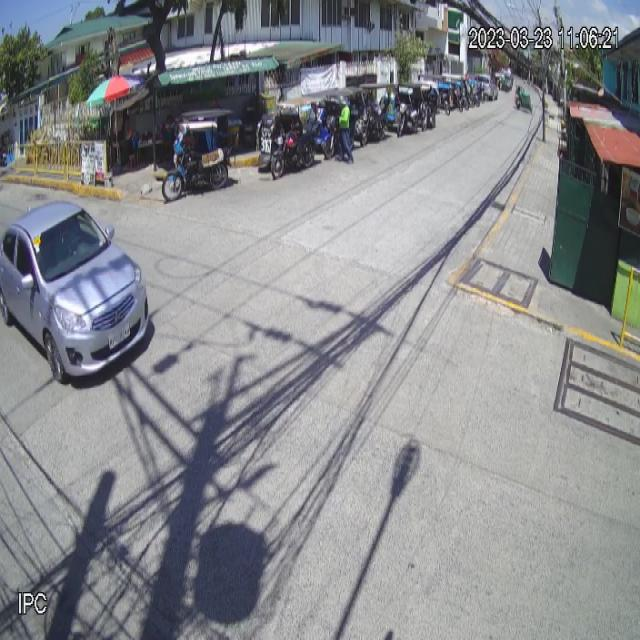Car: (0, 199, 150, 385)
